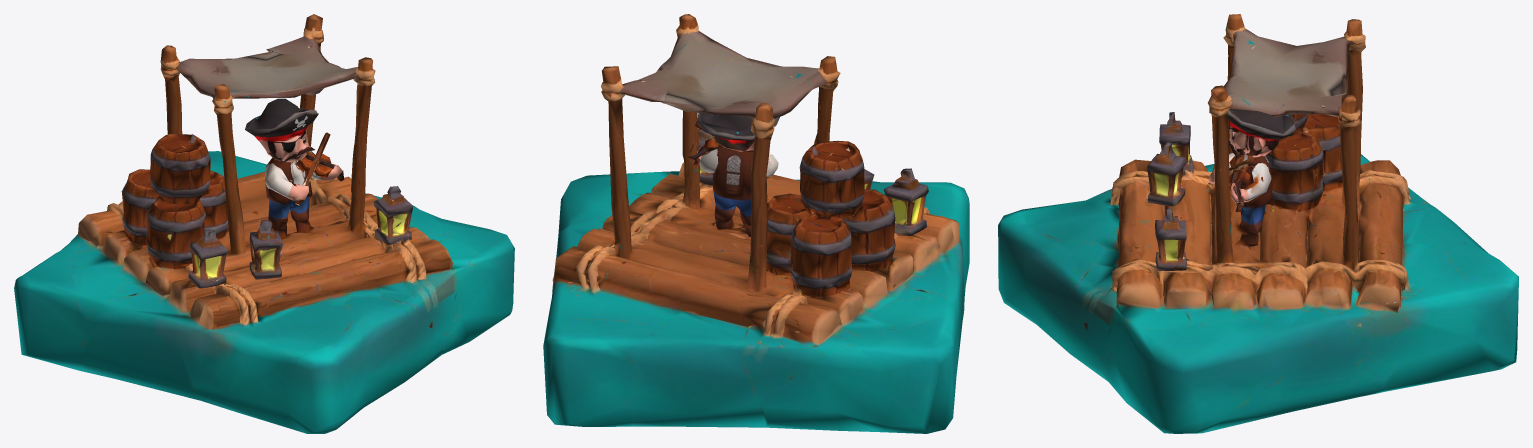
File: m_tavern.glb
The picture shows the model from 3 angles, left to right: view 1: azimuth 30°, elevation 25°; view 2: azimuth 150°, elevation 25°; view 3: azimuth 270°, elevation 25°; orthographic projection. The views are drawn at different scales.
Bounding box in the file's own units: 0.9933 × 0.599 × 0.9934.
Materials: 1 (1 with a texture image).
